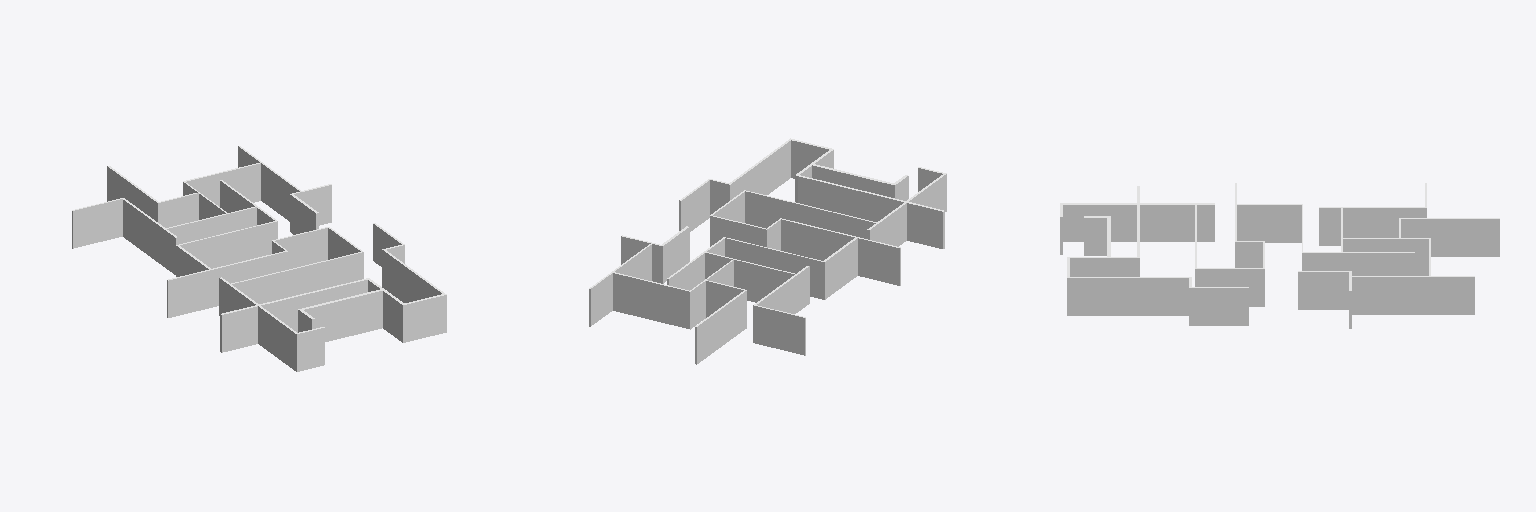
Rendered from maze.obj.
3 renders of one model, left to right at view 1: azimuth 30°, elevation 25°; view 2: azimuth 150°, elevation 25°; view 3: azimuth 270°, elevation 25°, orthographic.
Parts seen in each view (by area): view 1: Cube_(2); view 2: Cube_(2); view 3: Cube_(2).
Part boxes in pixels (x1,y1,x2,y2): Cube_(2): (72,146,446,371); Cube_(2): (589,138,946,364); Cube_(2): (1060,183,1499,328).
Size of the model in its own units: 33.47 by 5.45 by 57.46.